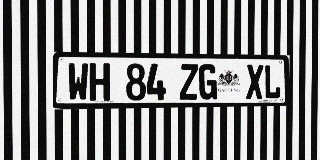4: (147, 63, 166, 100)
8: (126, 63, 146, 100)
G: (199, 64, 217, 100)
H: (89, 63, 110, 101)
L: (264, 65, 281, 99)
W: (68, 63, 89, 101)
X: (246, 64, 263, 99)
Z: (180, 64, 198, 100)
